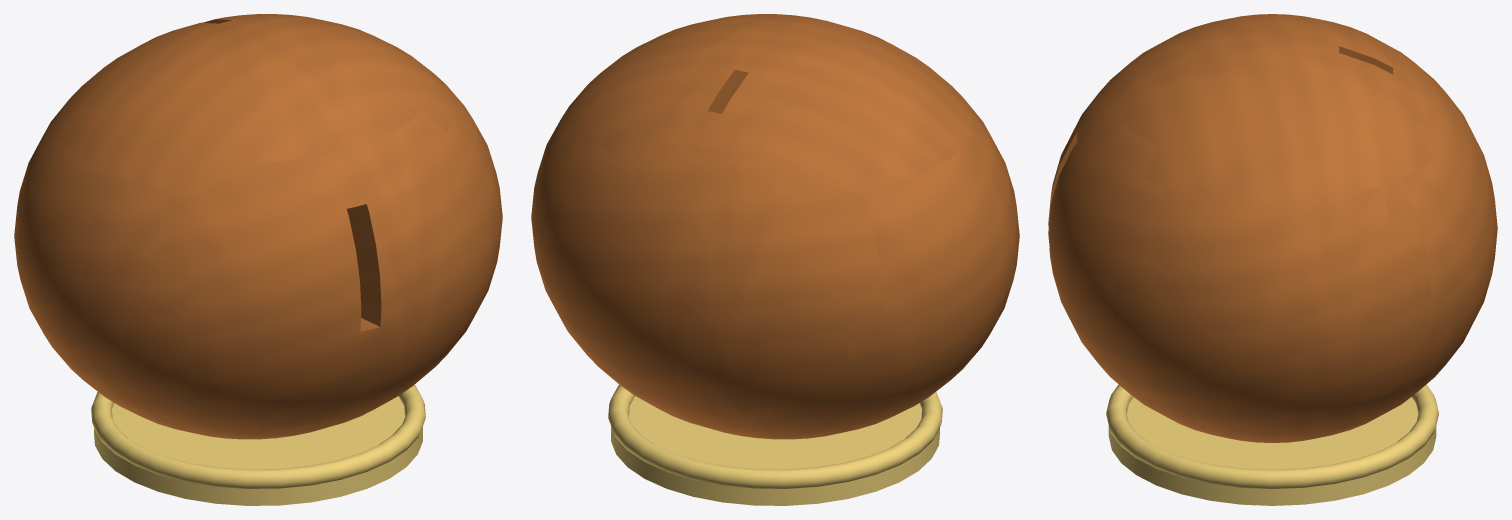
File: muyu-zitan.glb
3 renders of one model, left to right at view 1: azimuth 30°, elevation 25°; view 2: azimuth 150°, elevation 25°; view 3: azimuth 270°, elevation 25°, orthographic.
Visible parts, largest first — view 1: MuyuBody, MuyuBase, MuyuRim; view 2: MuyuBody, MuyuBase, MuyuRim; view 3: MuyuBody, MuyuBase, MuyuRim.
Boxes of the visible parts, x1,y1,x2,y2 form: MuyuBody: (14,14,502,439); MuyuBase: (94,396,422,505); MuyuRim: (91,384,425,488); MuyuBody: (531,14,1019,439); MuyuBase: (611,396,939,505); MuyuRim: (608,384,942,488); MuyuBody: (1048,14,1497,442); MuyuBase: (1108,397,1436,505); MuyuRim: (1106,384,1438,488).
Size of the model in its own units: 2.16 by 1.9 by 1.96.
3 materials, 1 textured.
